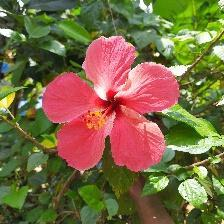hibiscus: (40, 36, 179, 178)
